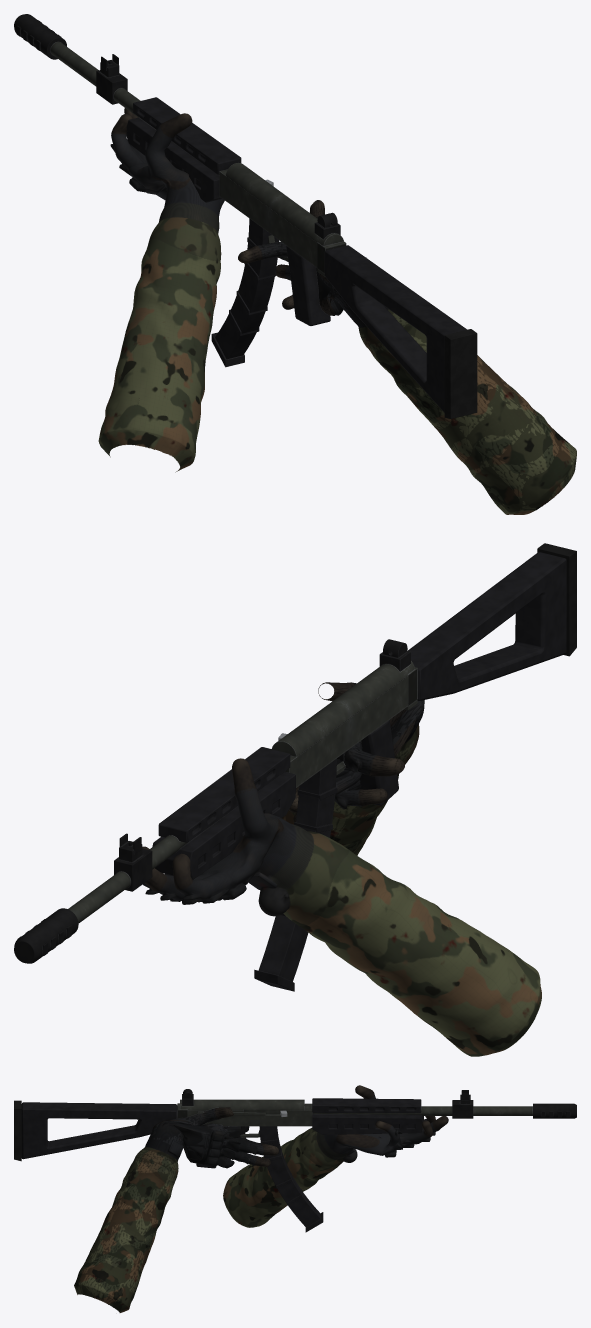
The picture shows the model from 3 angles, top to bottom: view 1: azimuth 30°, elevation 25°; view 2: azimuth 150°, elevation 25°; view 3: azimuth 270°, elevation 25°; orthographic projection. The views are drawn at different scales.
Visible parts, largest first — view 1: Body, ArmL, Mag; view 2: Body, ArmL, Mag; view 3: Body, ArmL, Mag.
Part boxes in pixels (bbox=[...]): Body: bbox=[14, 14, 576, 514]; ArmL: bbox=[98, 108, 224, 472]; Mag: bbox=[211, 218, 279, 367]; Body: bbox=[14, 543, 576, 963]; ArmL: bbox=[142, 758, 541, 1056]; Mag: bbox=[254, 758, 336, 991]; Body: bbox=[14, 1089, 576, 1312]; ArmL: bbox=[223, 1085, 448, 1227]; Mag: bbox=[259, 1126, 323, 1232].
Bounding box in the file's own units: 0.4953 × 0.3881 × 1.08.
Materials: 2 (2 with a texture image).
